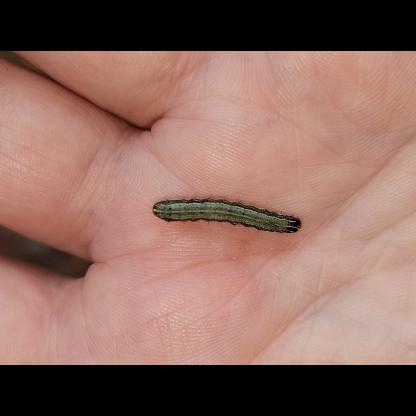Fall Armyworm Larvae: (151, 194, 305, 238)
